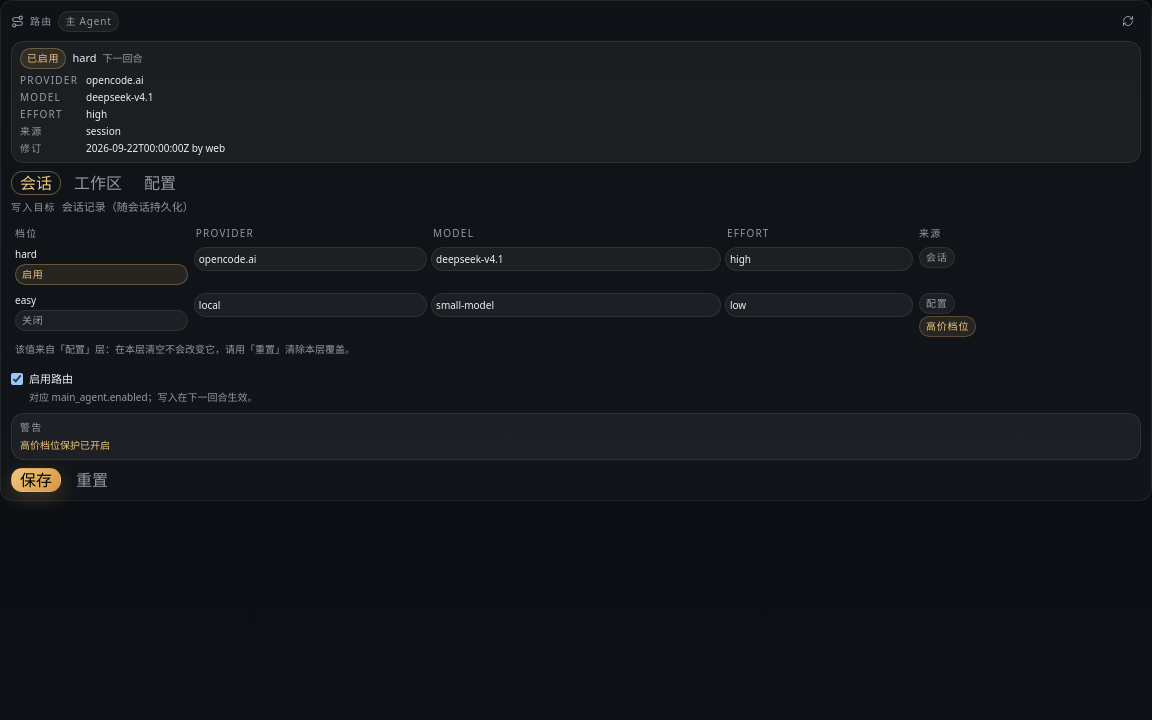
SessionDetailRoutingSection › 重置发送 clear=true 清除该层覆盖
Click the button "重置": (92, 480) [67,468,117,492]
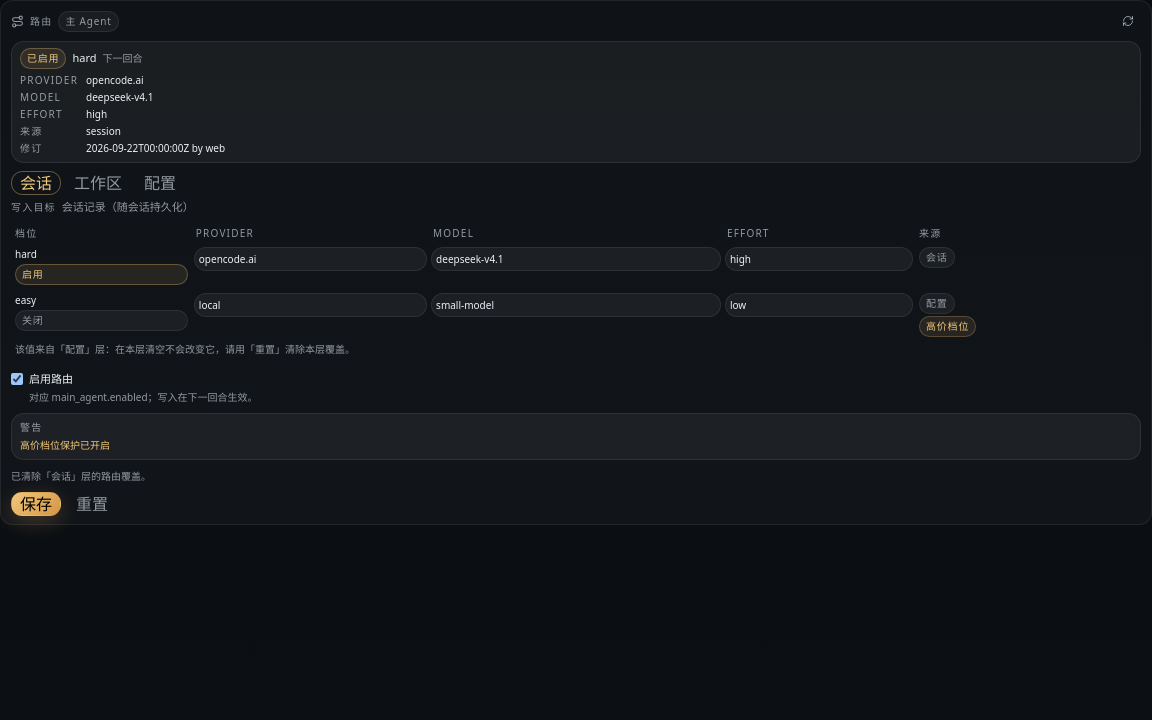
Expected: the text "已清除「会话」层的路由覆盖。" is shown, [11,469,151,483]
